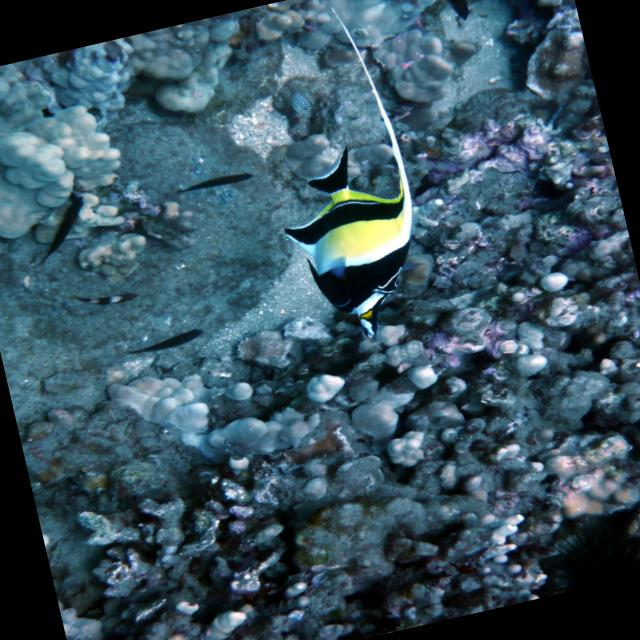MorishIdol: (234, 0, 441, 353)
